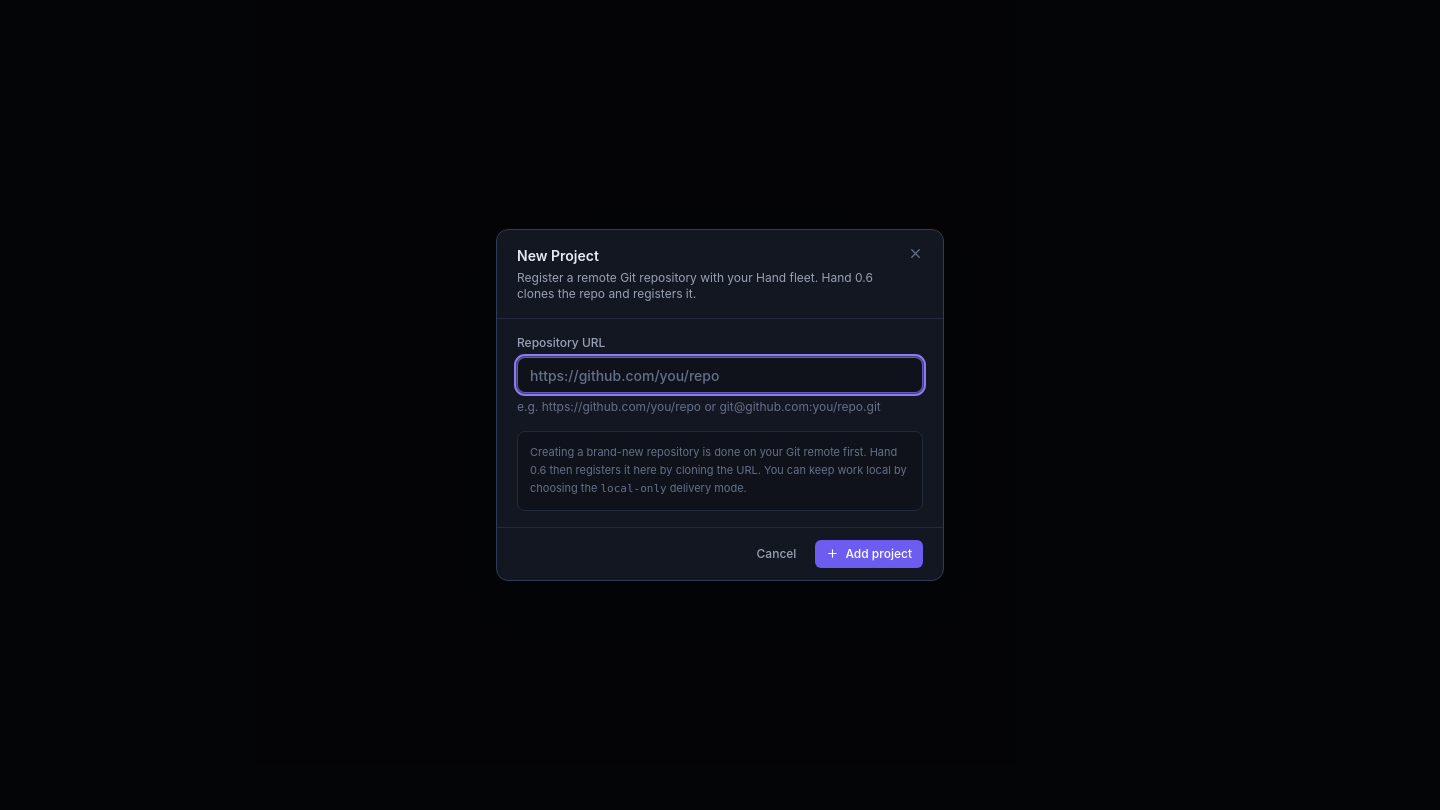
Test: ProjectCreateDialog › shows an error when the URL is empty
Click the button "Add project". click: (869, 554)
box: x1=815 y1=540 x2=923 y2=568
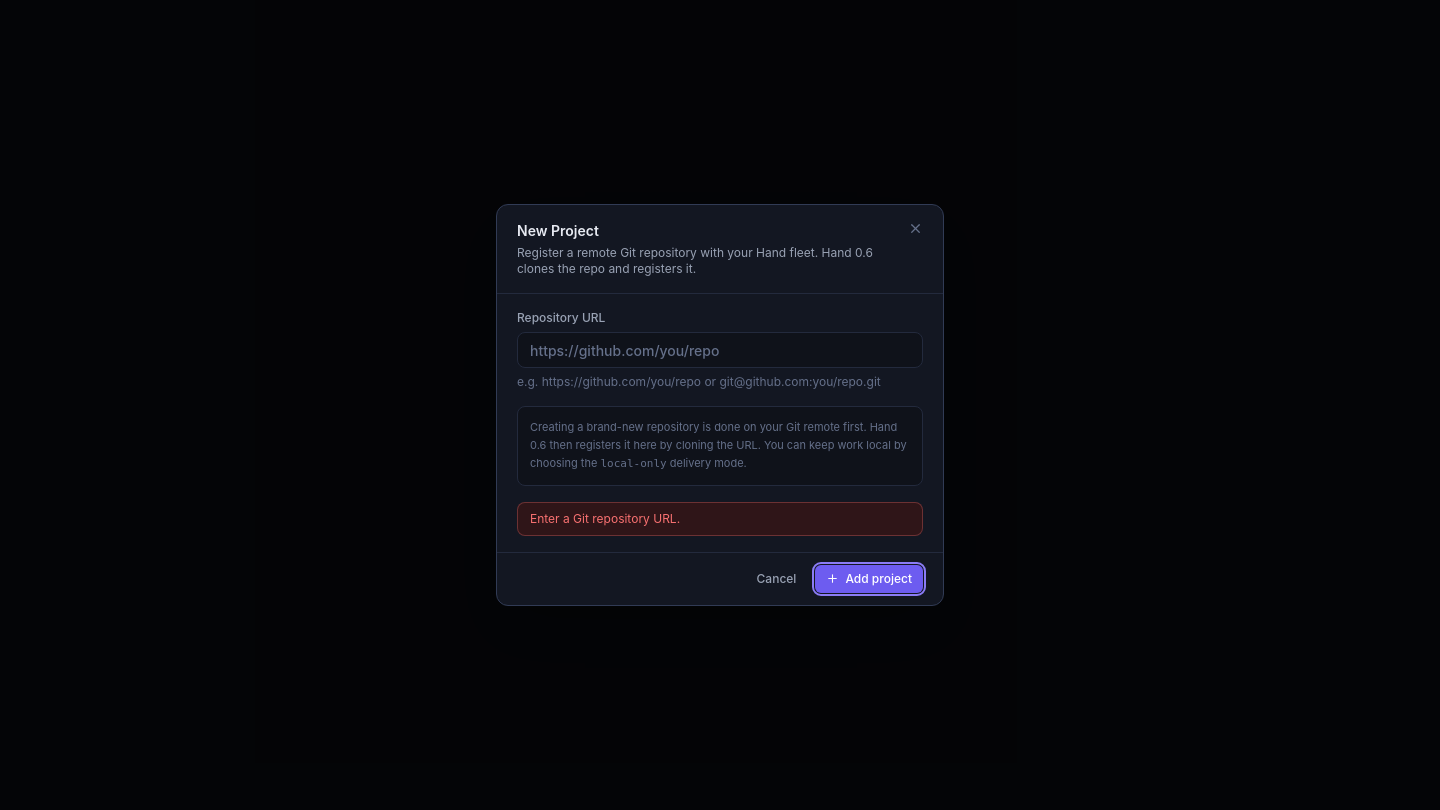
expect the text "Enter a Git repository URL." is shown: met, box x1=530 y1=511 x2=680 y2=526
